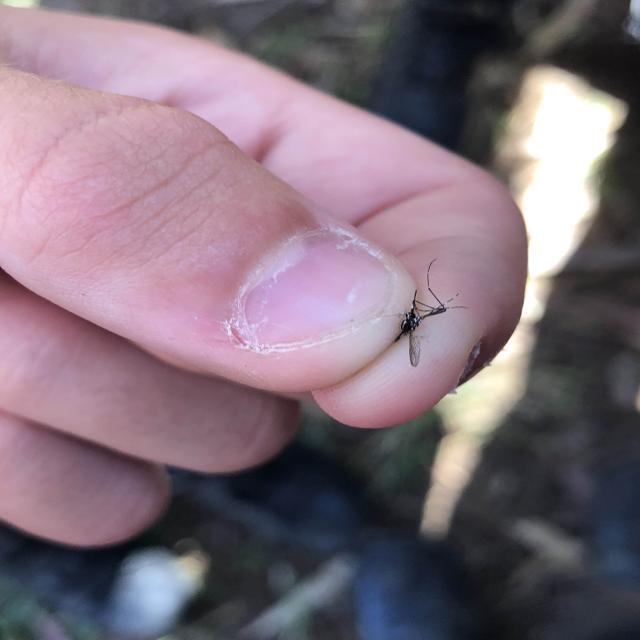albopictus: (379, 255, 469, 368)
